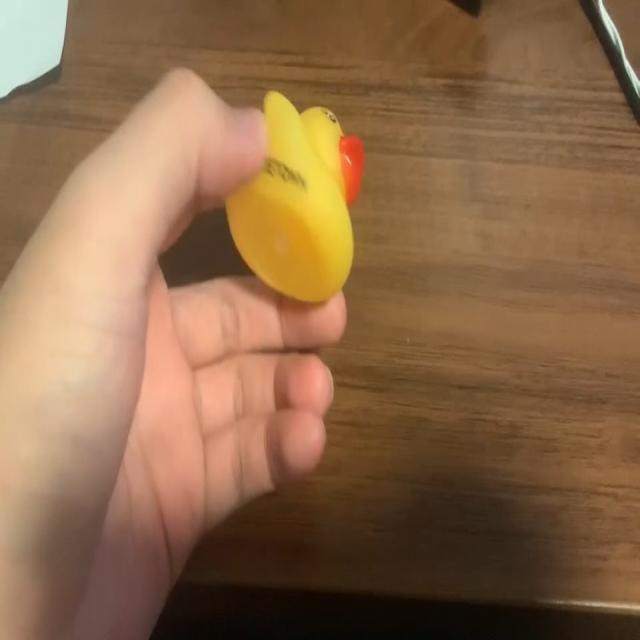rubber-duck: (225, 90, 363, 300)
